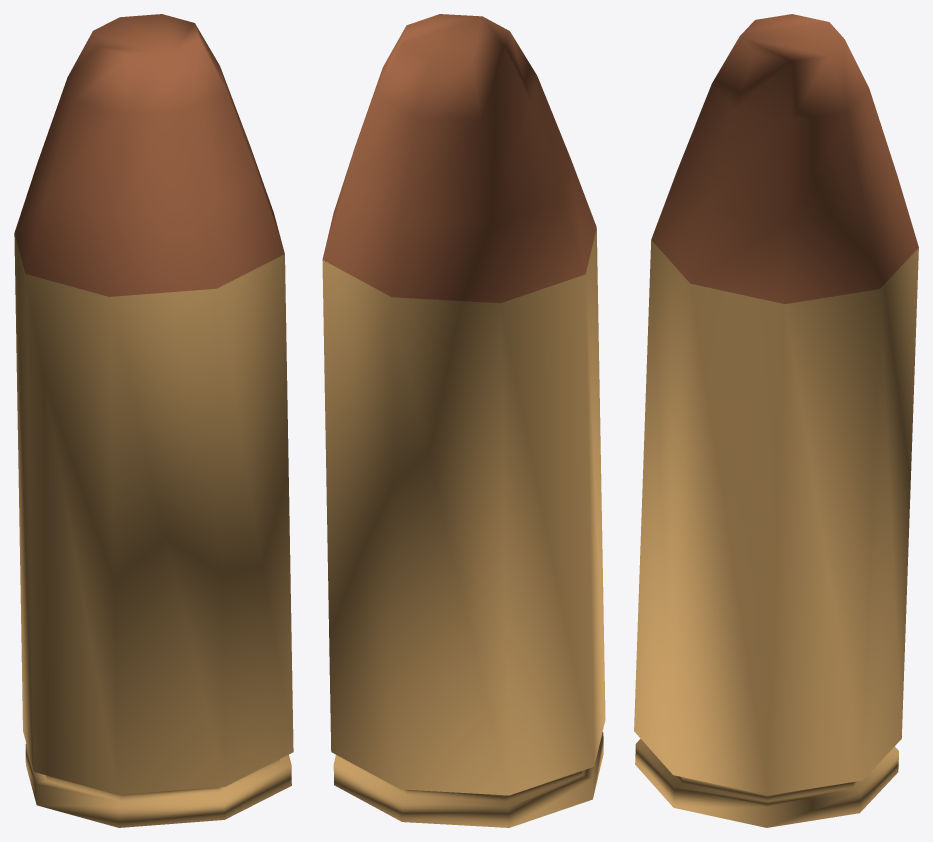
File: pic One bullet.fbx
The picture shows the model from 3 angles, left to right: view 1: azimuth 30°, elevation 25°; view 2: azimuth 150°, elevation 25°; view 3: azimuth 270°, elevation 25°; orthographic projection.
Parts seen in each view (by area): view 1: Object001; view 2: Object001; view 3: Object001.
Boxes of the visible parts, x1,y1,x2,y2 form: Object001: [14, 14, 293, 827]; Object001: [322, 14, 605, 827]; Object001: [634, 14, 918, 827].
Bounding box in the file's own units: 78.74 × 223 × 78.21.
1 material, 1 textured.
